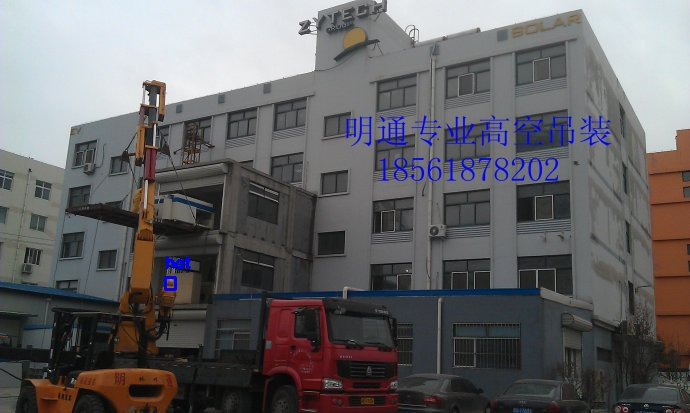hat: (165, 277, 175, 289)
